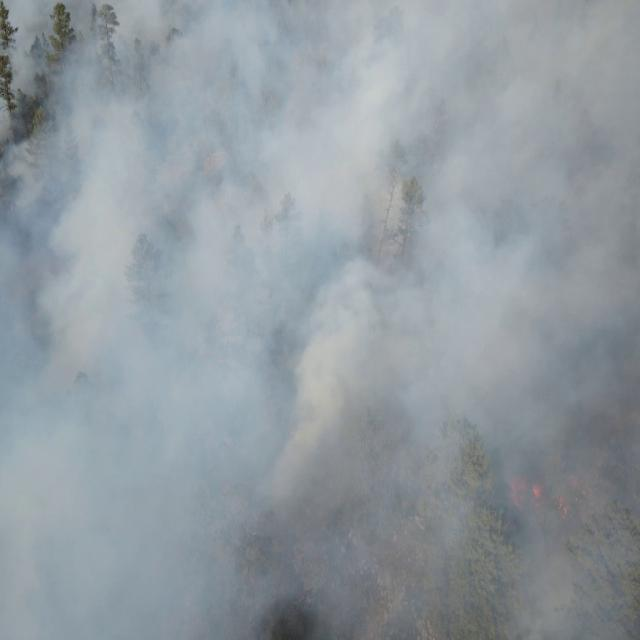fire: (508, 476, 526, 509), (566, 469, 584, 495), (553, 494, 569, 520), (530, 482, 541, 502)
smoke: (1, 1, 640, 640)
